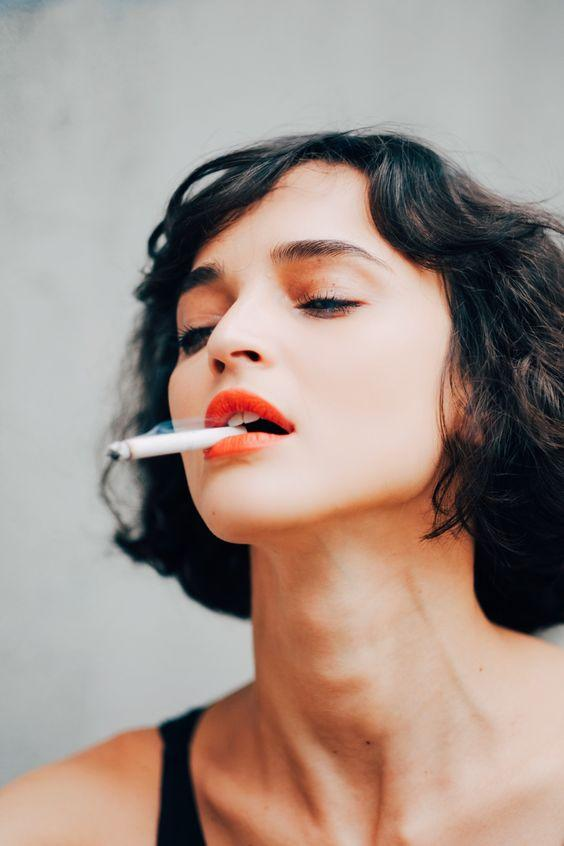cigarette: (105, 425, 248, 462)
